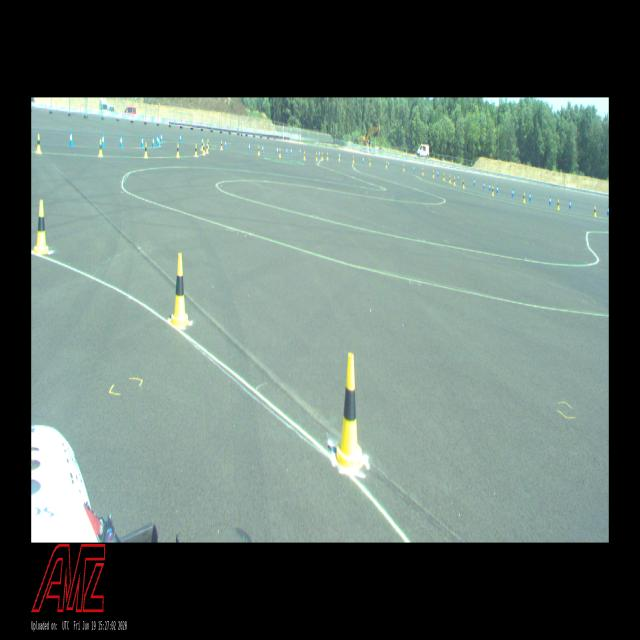blue_cone: (69, 130, 73, 146), (102, 133, 105, 147), (120, 134, 123, 148), (141, 135, 144, 147), (152, 136, 155, 148), (158, 135, 160, 148), (224, 140, 227, 148), (607, 204, 609, 216), (160, 132, 162, 143), (529, 191, 531, 202), (156, 134, 158, 144), (248, 142, 250, 152), (262, 144, 264, 154), (512, 188, 514, 198), (569, 199, 571, 209), (180, 133, 182, 142), (276, 146, 278, 155), (318, 149, 320, 158), (489, 183, 491, 192), (496, 184, 498, 193), (549, 196, 551, 205), (286, 147, 288, 155), (290, 147, 292, 155), (362, 156, 364, 164), (483, 181, 485, 189), (299, 148, 301, 155), (413, 165, 415, 172), (437, 170, 439, 177), (388, 160, 389, 168), (474, 178, 475, 186), (458, 174, 459, 181)
yellow_cone: (337, 353, 362, 467), (170, 253, 190, 327), (34, 200, 48, 255), (36, 134, 42, 154), (98, 138, 103, 156), (144, 142, 148, 158), (177, 143, 180, 158), (195, 144, 198, 157), (220, 140, 223, 150), (206, 141, 208, 154), (203, 143, 205, 155), (201, 138, 203, 150), (208, 138, 210, 149), (279, 147, 281, 158), (338, 154, 341, 161), (258, 145, 260, 155), (594, 206, 596, 216), (558, 199, 560, 209), (304, 151, 306, 160), (316, 152, 318, 161), (321, 152, 323, 161), (443, 172, 445, 181), (492, 186, 494, 195), (523, 193, 525, 202), (449, 175, 451, 183), (462, 180, 464, 188), (369, 158, 371, 165), (403, 164, 405, 171), (422, 168, 424, 175), (327, 152, 328, 160), (454, 177, 455, 185), (353, 156, 354, 163), (386, 161, 387, 168), (433, 170, 434, 177)
